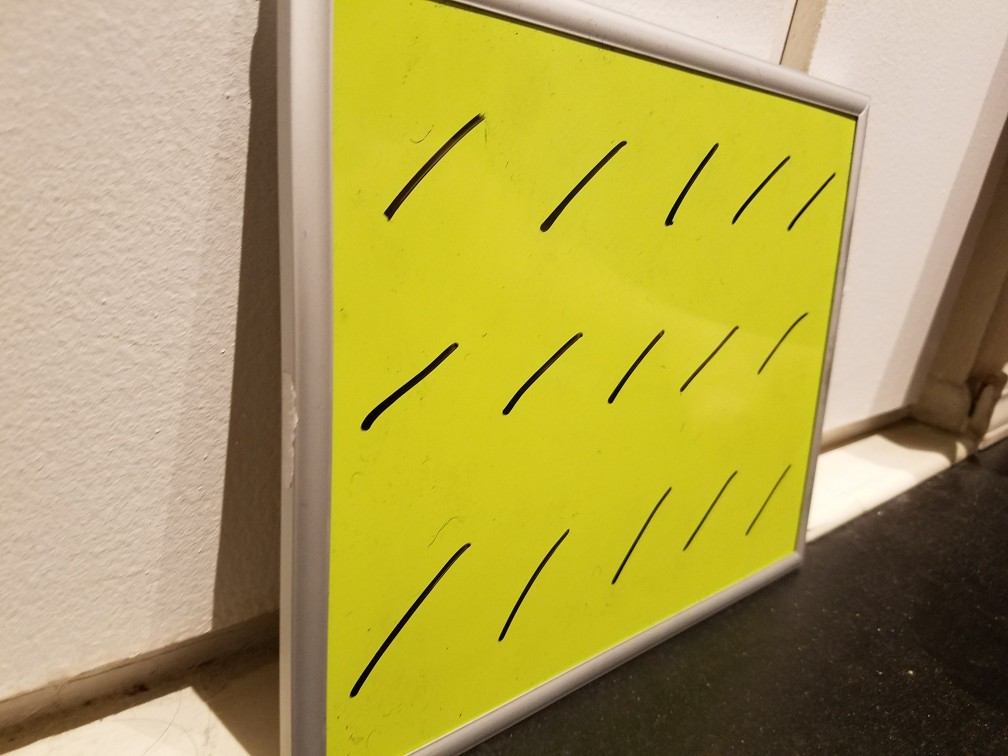/: (344, 536, 480, 706), (364, 98, 494, 223), (489, 522, 582, 645), (354, 332, 460, 438), (534, 117, 624, 235), (503, 328, 589, 424), (606, 476, 677, 588), (648, 123, 716, 229), (597, 323, 674, 404), (674, 318, 741, 403), (682, 464, 742, 558), (753, 300, 818, 383), (730, 145, 787, 229), (747, 459, 792, 542), (788, 168, 830, 239)
